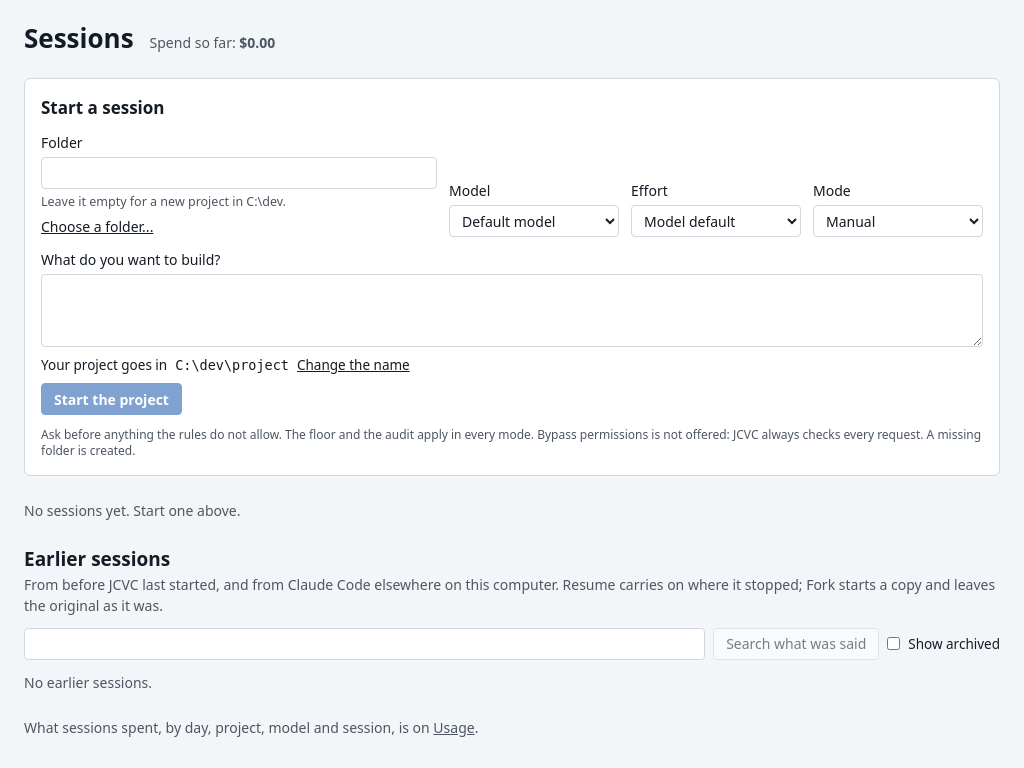
Test: starting a new project from what you want to build › lets you change the name, kept safe for a folder
In the text box labelled "What do you want to build?": [512, 311] box [41, 274, 983, 347], type "a game"
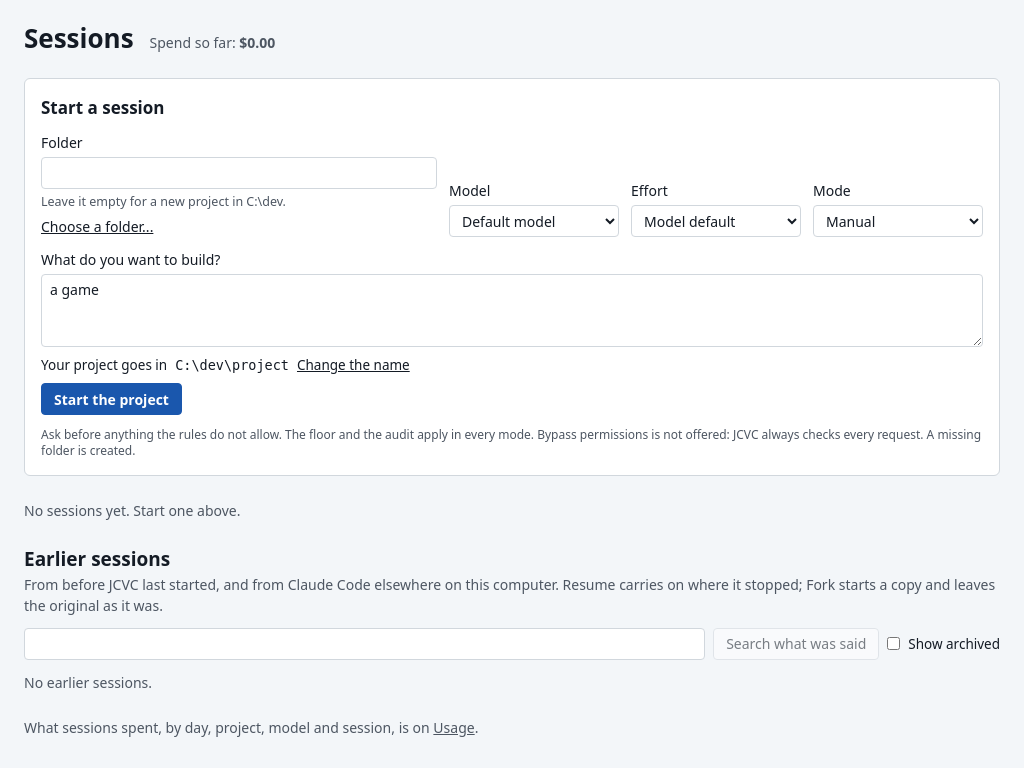
Click the button "Change the name": [353, 365] box [297, 355, 410, 375]
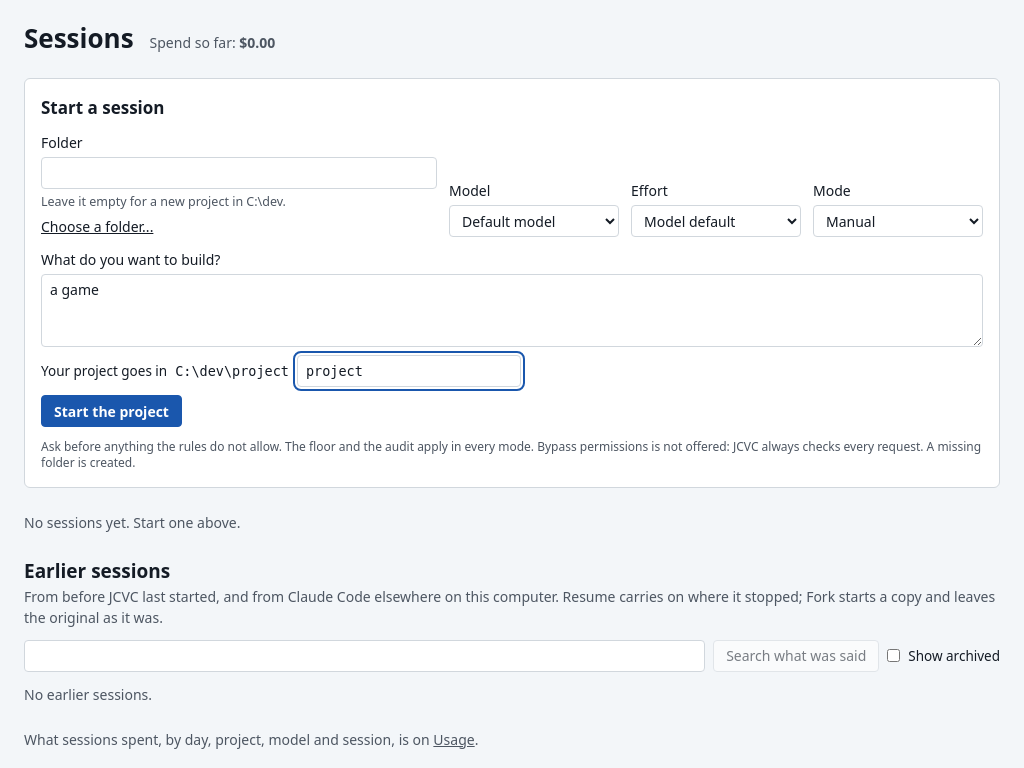
Replace the text in the field named "Folder name" with "My Snake Game!": [409, 371] box [297, 355, 521, 387]
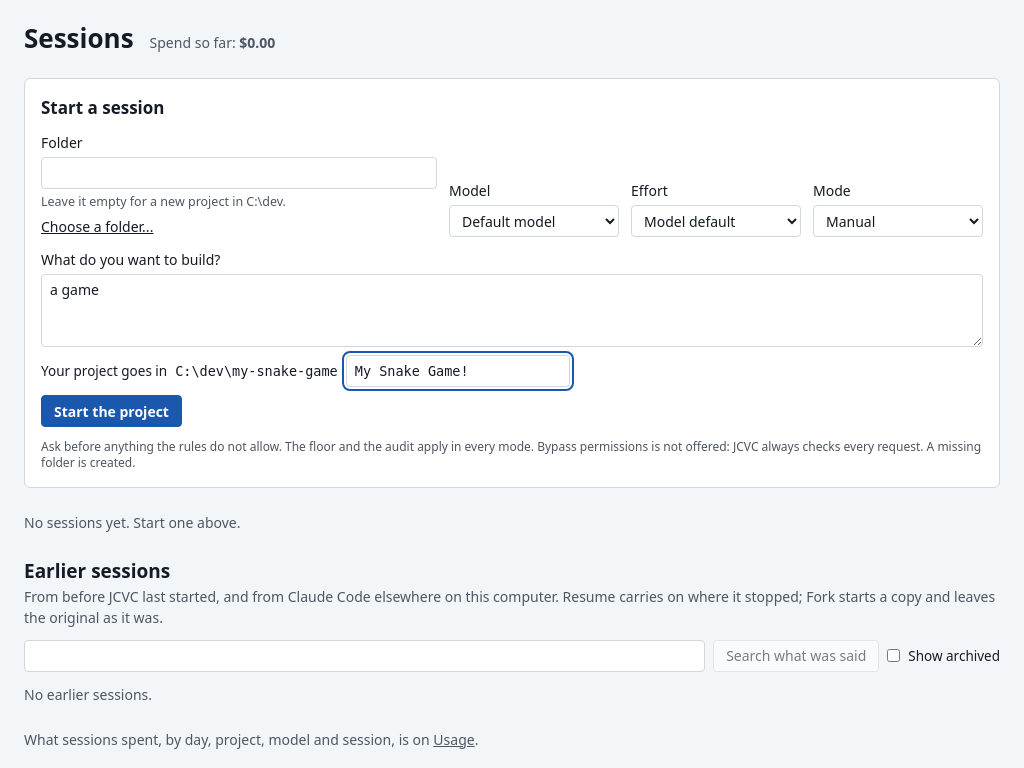
Now the text "C:\\dev\\my-snake-game" is shown, box [175, 361, 338, 381]
